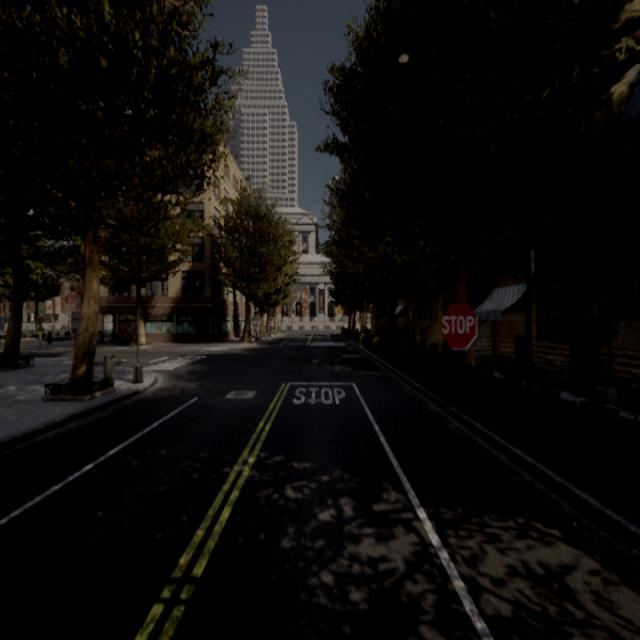stop sign: (438, 299, 479, 353)
